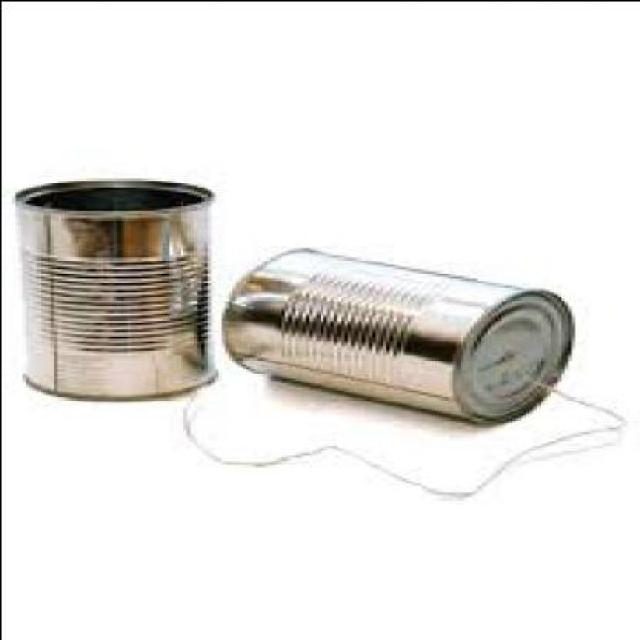METAL: (220, 244, 571, 419), (10, 175, 213, 398)
